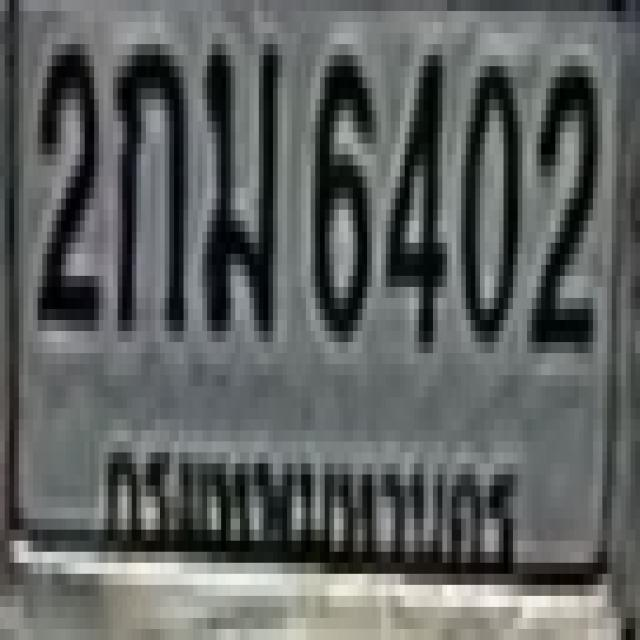0: (457, 55, 518, 331)
2: (527, 55, 593, 342), (33, 33, 94, 320)
4: (382, 44, 442, 342)
6: (311, 44, 367, 331)
A01: (113, 33, 183, 320)
A33: (200, 33, 275, 331)
BKK: (98, 417, 528, 596)
